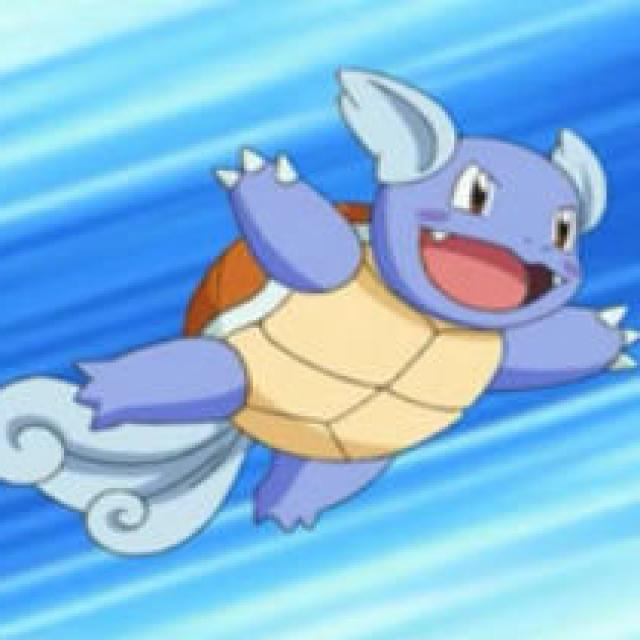Wartortle: (157, 103, 610, 526)
